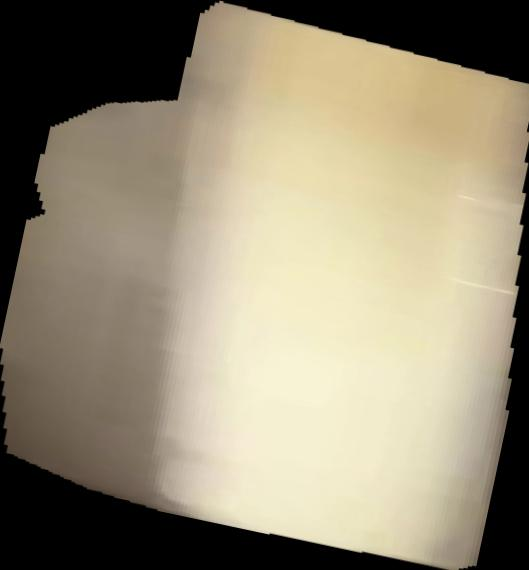backward: (1, 1, 529, 570)
